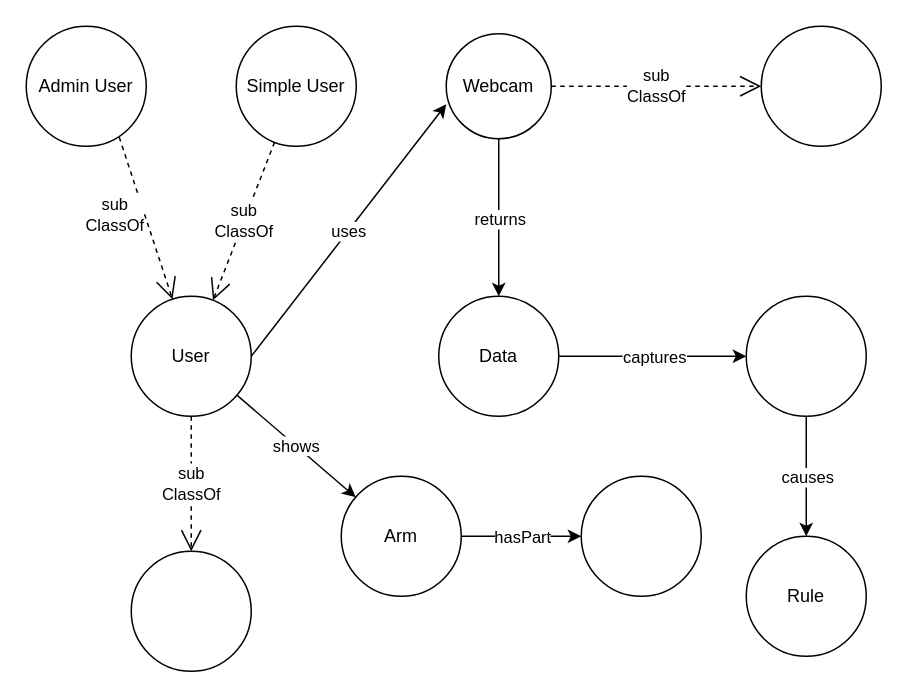
This 908x698 diagram has some shape labels left out. The centre of each missing label's shape, as x and y in pixels:
"Gestures" goes at (805,355).
"Hand" goes at (640,535).
"Person" goes at (190,610).
"Web Thing" goes at (820,85).
